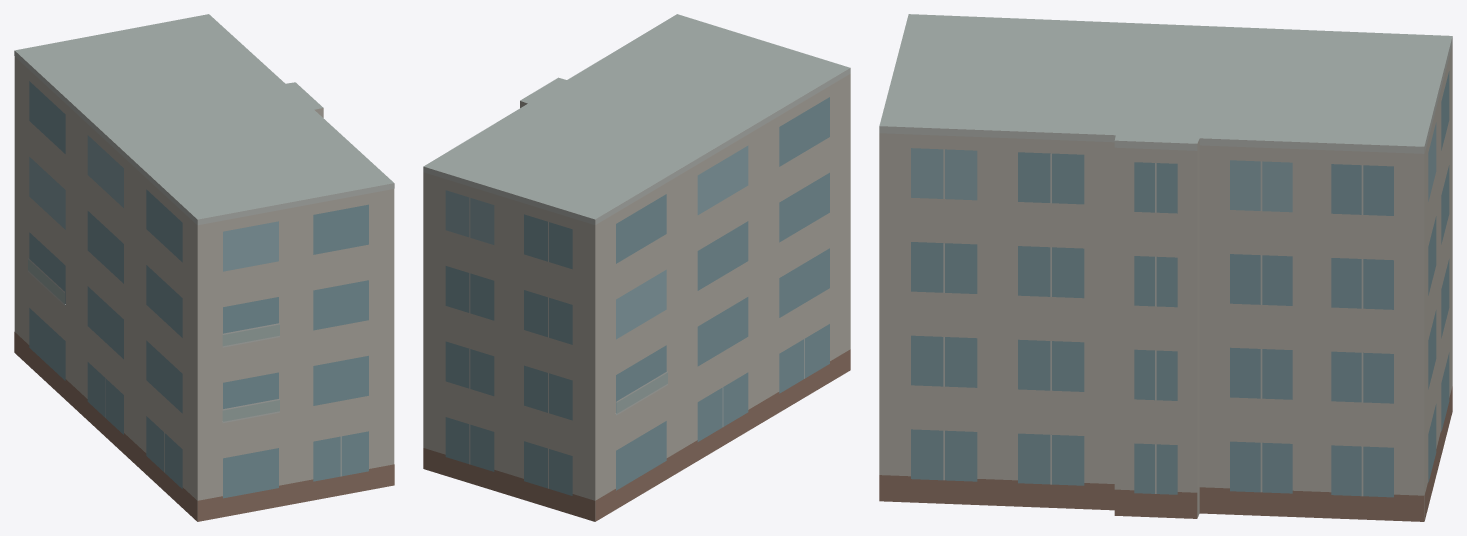
The model's file is survey-upis-32750031.glb.
3 views of the same model, side by side, from view 1: azimuth 30°, elevation 25°; view 2: azimuth 150°, elevation 25°; view 3: azimuth 270°, elevation 25° (orthographic). The views are drawn at different scales.
Visible parts, largest first — view 1: survey-upis-32750031.tmp; view 2: survey-upis-32750031.tmp; view 3: survey-upis-32750031.tmp.
Boxes of the visible parts, <box> form: survey-upis-32750031.tmp: <box>14,14,394,521</box>; survey-upis-32750031.tmp: <box>423,14,850,521</box>; survey-upis-32750031.tmp: <box>879,14,1452,521</box>.
Size of the model in its own units: 9.8 by 12.9 by 17.88.
